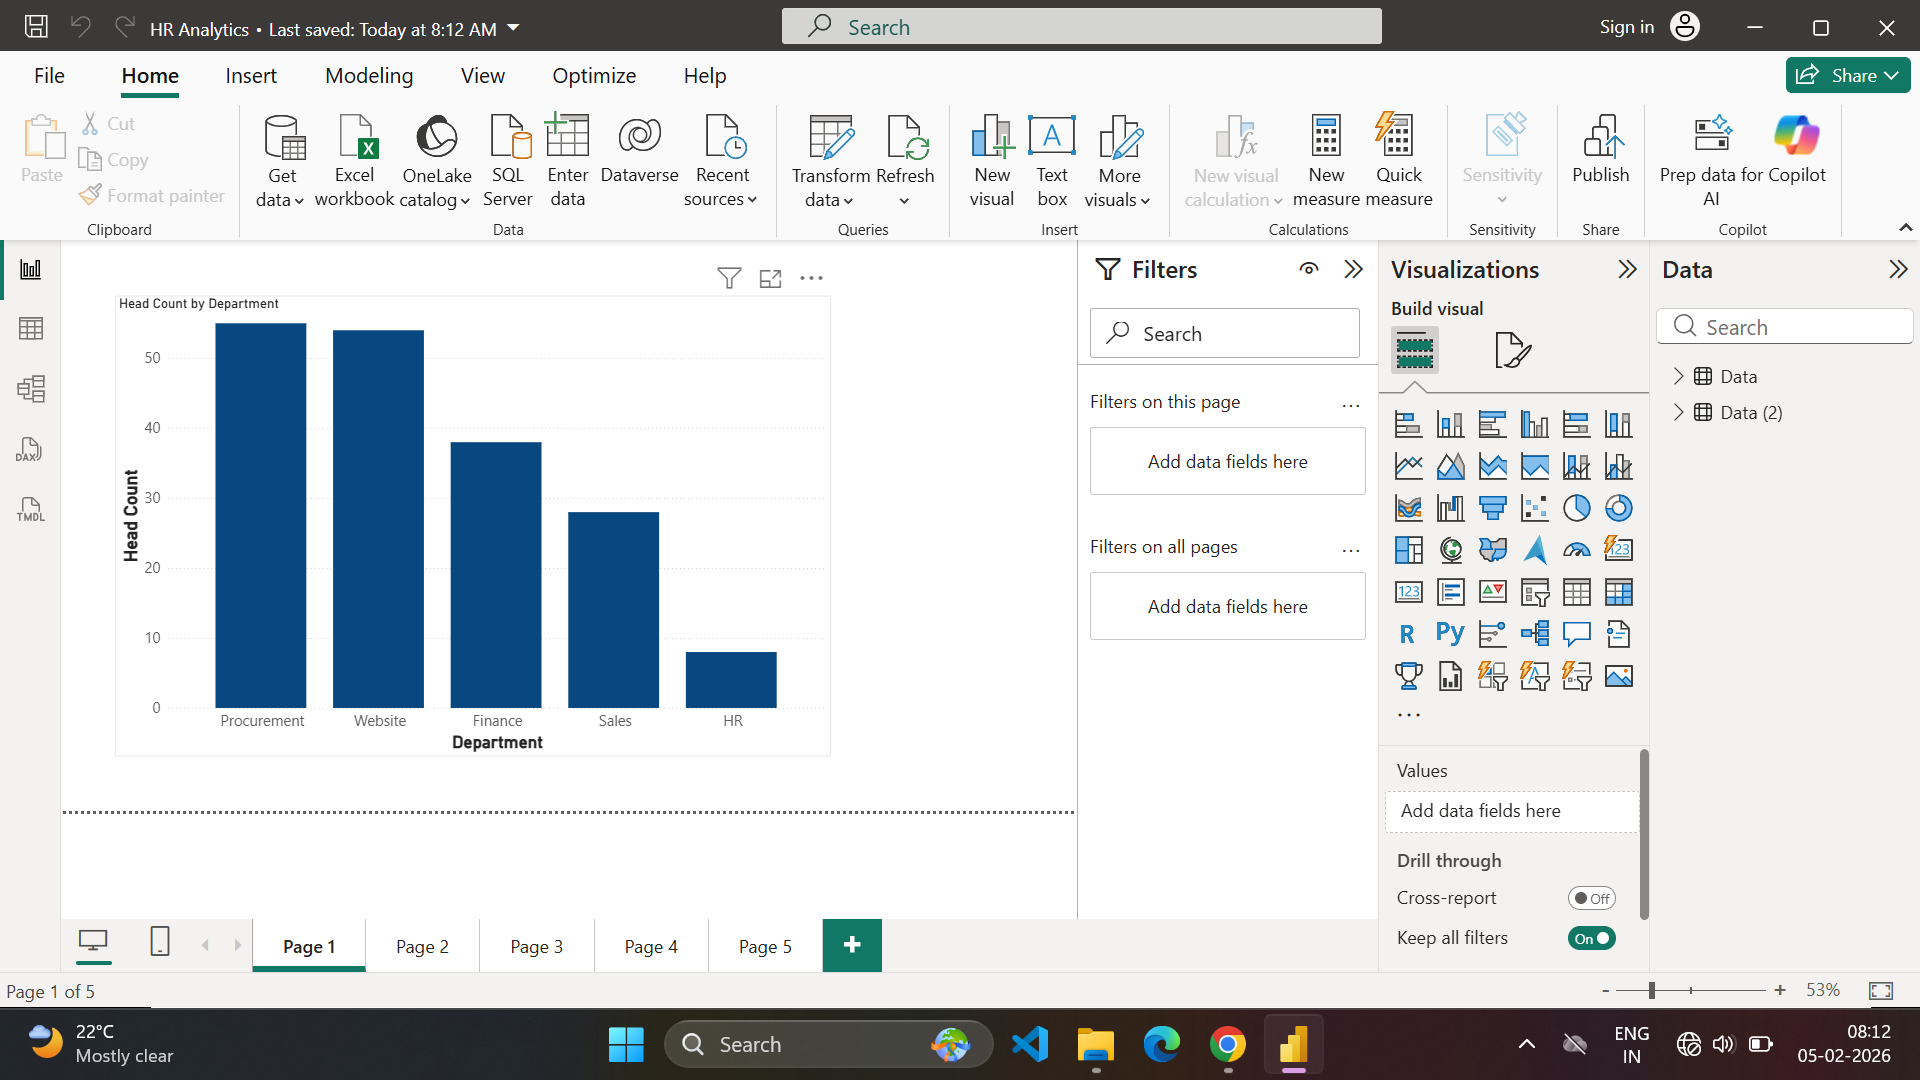

Layout of this report page (visuals, bound fields, positions):
{"tool":"powerbi","page":{"name":"Page 1","canvas":[1280,720],"ordinal":0},"visuals":[{"type":"clusteredColumnChart","fields":{"Category":["Data (2).Department"],"Y":["Data (2).Head Count"]},"box":[68.3,70,901.7,580],"z":0}]}

Visuals, with their boxes on the page's 1280x720 design canvas (x1, y1, x2, y2). These are canvas units, not pixel positions in the 1920x1080 screenshot, which may show the page scaled, cropped or inside an application window:
clusteredColumnChart - Data (2).Department x Data (2).Head Count: x1=68 y1=70 x2=970 y2=650
